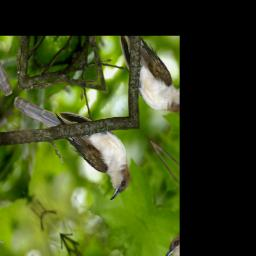Cuckoo: (11, 55, 144, 213)
